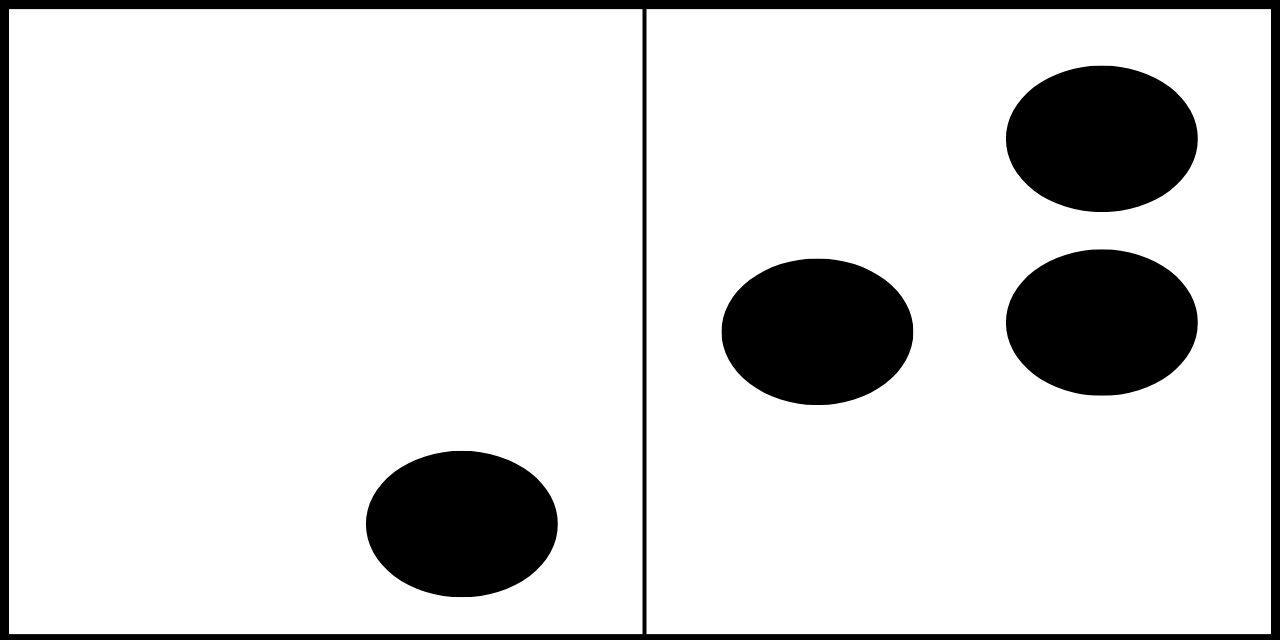capital_sign: (104, 61, 558, 598)
letter_J: (722, 64, 1198, 593)
